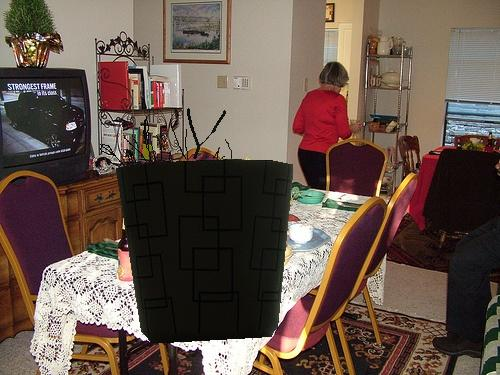tampered: (101, 109, 293, 343)
